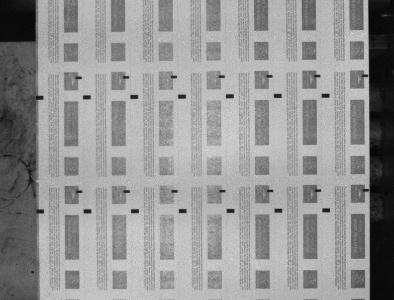backgroundclutter: (31, 270, 35, 273)
qblock: (130, 94, 139, 99), (227, 208, 235, 213), (178, 94, 186, 99), (36, 95, 44, 100), (322, 93, 330, 98), (322, 208, 331, 212), (84, 209, 92, 213), (275, 208, 283, 212), (131, 209, 139, 213), (179, 209, 187, 213), (36, 209, 44, 213), (226, 94, 234, 98), (83, 95, 91, 99), (274, 94, 282, 98)
smallqblock: (220, 189, 226, 193), (267, 74, 273, 78), (362, 74, 369, 77), (76, 190, 83, 193), (267, 189, 274, 192), (75, 76, 82, 79), (315, 189, 322, 192), (123, 76, 130, 79), (171, 75, 178, 78), (172, 190, 178, 193), (315, 74, 321, 77), (124, 190, 130, 193), (219, 75, 225, 78), (363, 189, 370, 191)
